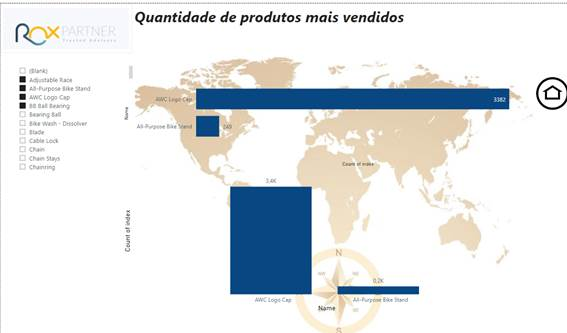

What the dashboard file says about the page in this screenshot:
{"tool":"powerbi","page":{"name":"VendasporValores","canvas":[1280,720],"ordinal":2},"visuals":[{"type":"image","box":[0,0,286.5,107.3],"z":0},{"type":"slicer","fields":{"Values":["ProductionProduct.Name"]},"box":[28.9,130.5,263.7,240.9],"z":6},{"type":"clusteredBarChart","fields":{"Category":["ProductionProduct.Name"],"Y":["CountNonNull(SalesOrderDetail.index)"]},"box":[263.9,118.5,872.1,241.3],"z":1000},{"type":"textbox","box":[286.5,0,636.5,80.4],"z":2000},{"type":"image","box":[1153,151,96,88.9],"z":6000},{"type":"columnChart","fields":{"Category":["ProductionProduct.Name"],"Y":["CountNonNull(SalesOrderDetail.index)"]},"box":[263.9,341.5,872.1,334.5],"z":8000}]}

Visuals, with their boxes on the page's 1280x720 design canvas (x1, y1, x2, y2). These are canvas units, not pixel positions in the 567x333 screenshot, which may show the page scaled, cropped or inside an application window:
image: crop(0, 0, 286, 107)
slicer - ProductionProduct.Name: crop(29, 130, 293, 371)
clusteredBarChart - ProductionProduct.Name x CountNonNull(SalesOrderDetail.index): crop(264, 118, 1136, 360)
textbox: crop(286, 0, 923, 80)
image: crop(1153, 151, 1249, 240)
columnChart - ProductionProduct.Name x CountNonNull(SalesOrderDetail.index): crop(264, 342, 1136, 676)
